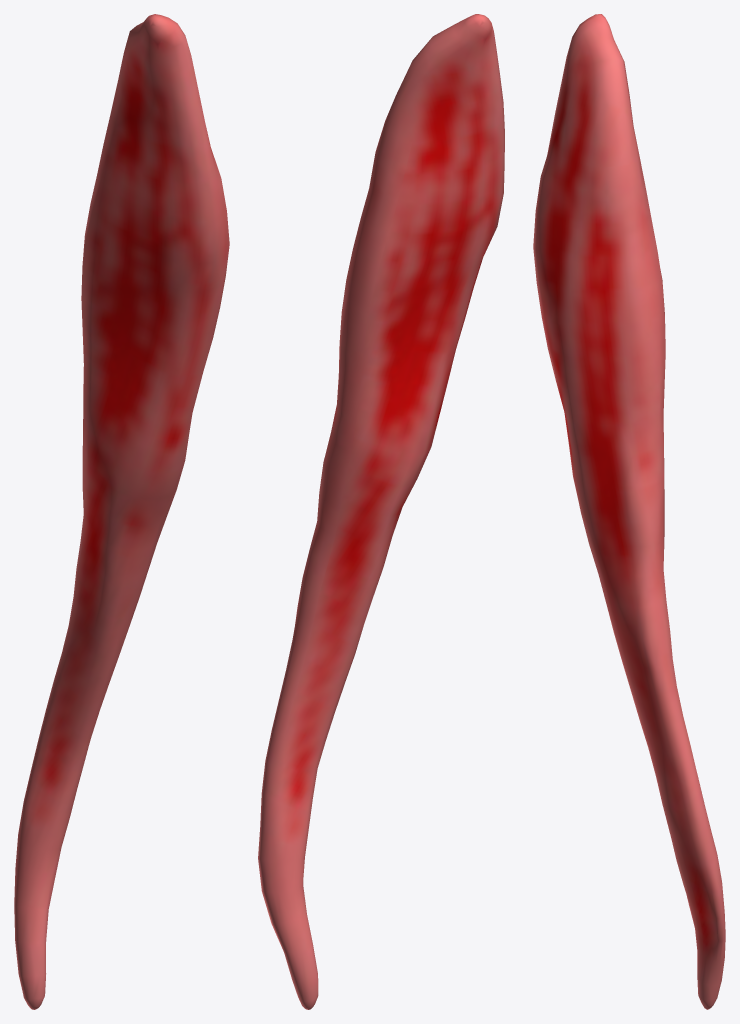
The model's file is Flexor_Carpi_Radialis.glb.
3 renders of one model, left to right at view 1: azimuth 90°, elevation 25°; view 2: azimuth 150°, elevation 25°; view 3: azimuth 270°, elevation 25°, orthographic. The views are drawn at different scales.
Visible parts, largest first — view 1: flexor_carpi_radialis1.004; view 2: flexor_carpi_radialis1.004; view 3: flexor_carpi_radialis1.004.
Part boxes in pixels (<box>): flexor_carpi_radialis1.004: <box>14,14,229,1009</box>; flexor_carpi_radialis1.004: <box>258,14,504,1009</box>; flexor_carpi_radialis1.004: <box>533,14,725,1009</box>.
Size of the model in its own units: 0.0903 by 0.4922 by 0.0912.
Materials: 1 (1 with a texture image).
